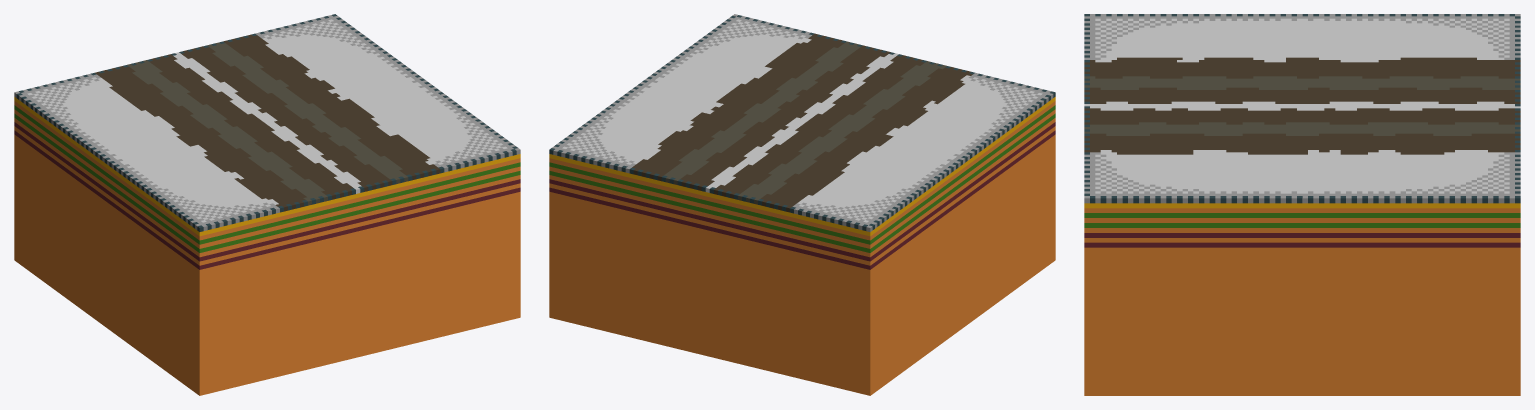
File: snow_dirt_road_1_tile.obj
3 renders of one model, left to right at view 1: azimuth 30°, elevation 25°; view 2: azimuth 150°, elevation 25°; view 3: azimuth 270°, elevation 25°, orthographic. The views are drawn at different scales.
Bounding box in the file's own units: 8 × 4 × 8.
Materials: 1 (1 with a texture image).
